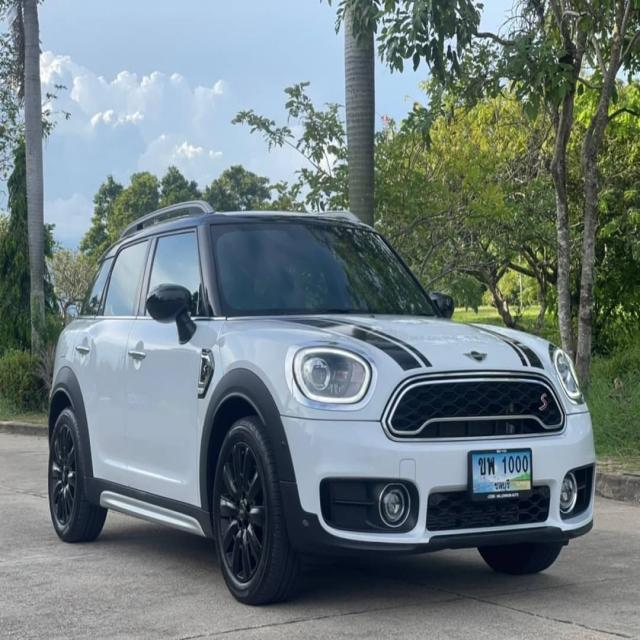license_plate: (467, 441, 533, 504)
